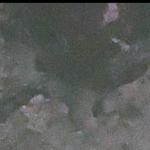alive: (1, 1, 148, 148)
